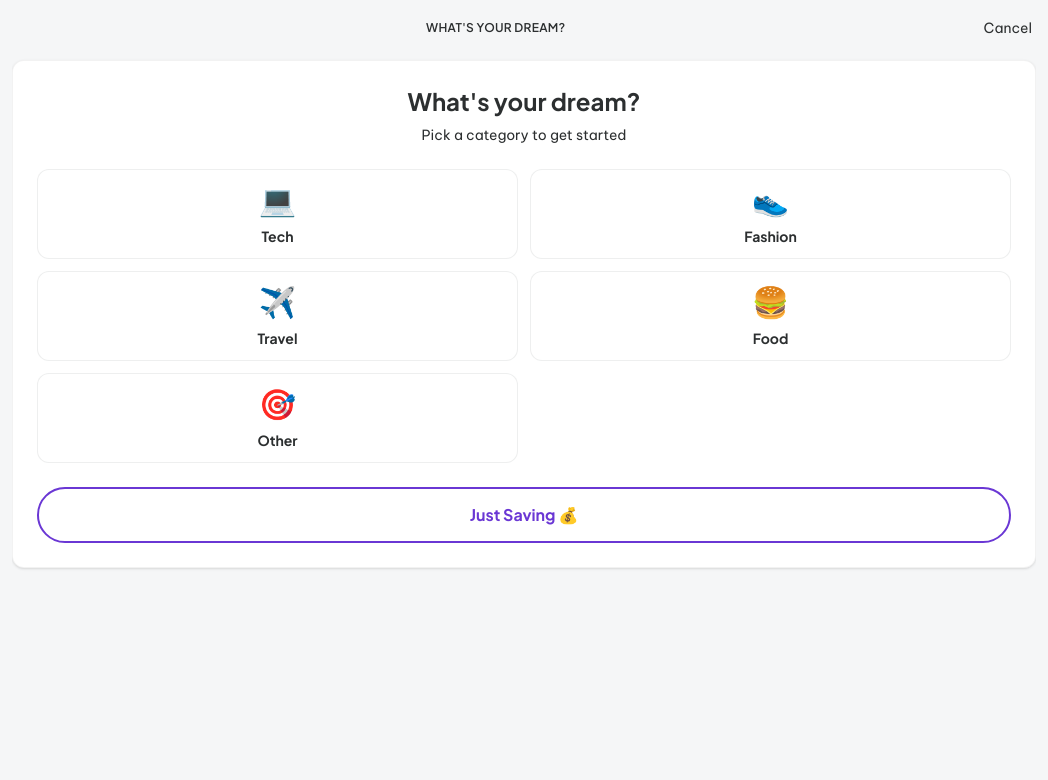
GoalSetupForm › advances to amount input after category selection
Click the button with aria-label "save for tech" at (278, 214), box [37, 169, 518, 259]
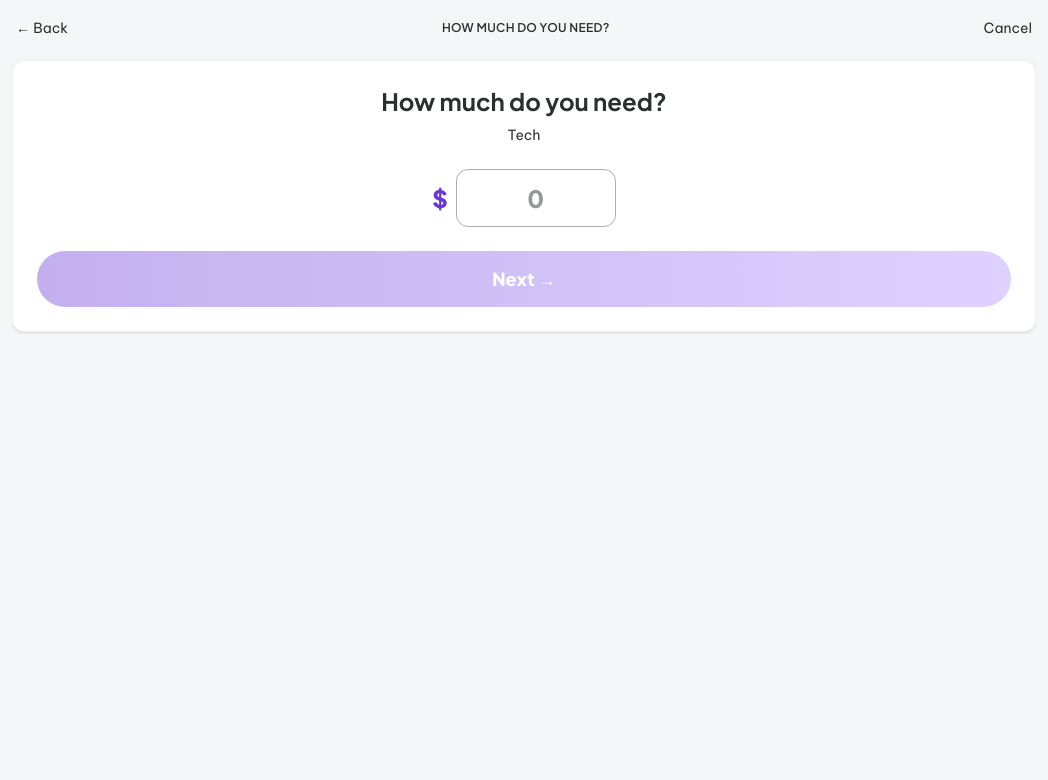
Result: the heading "How much do you need?" is shown at [381, 86, 667, 116]
